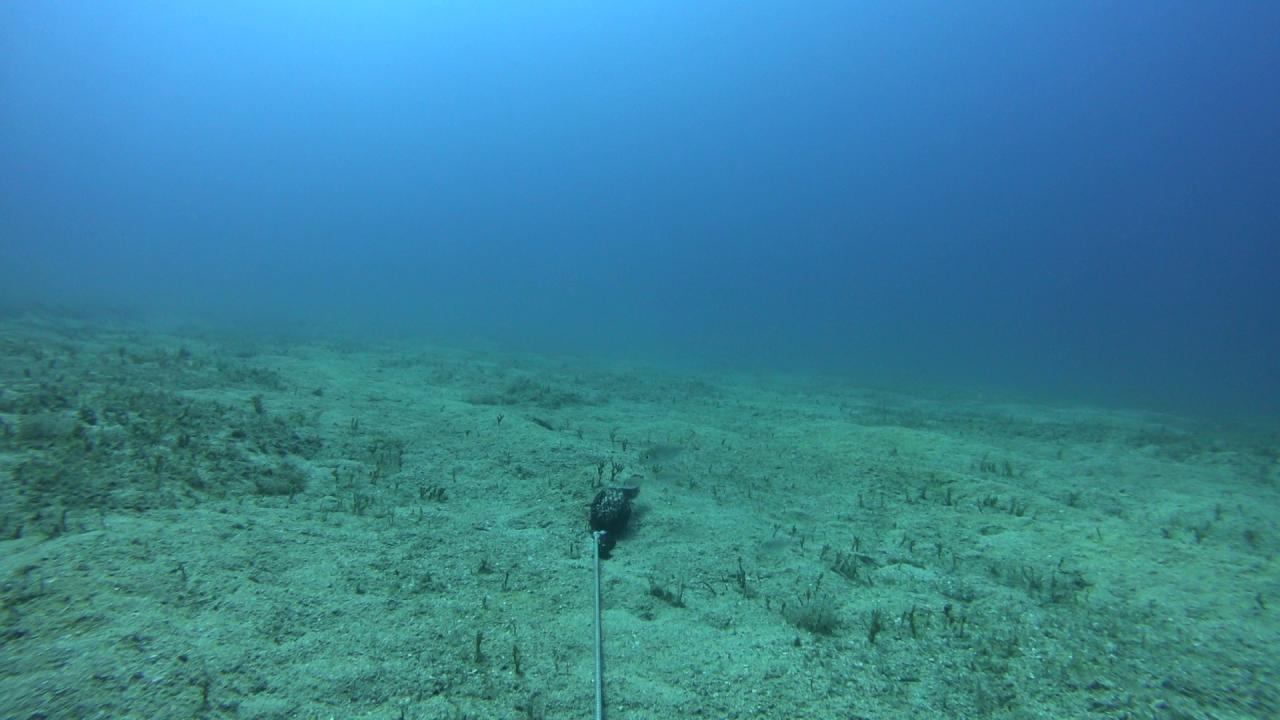pagellus: (635, 430, 699, 466)
